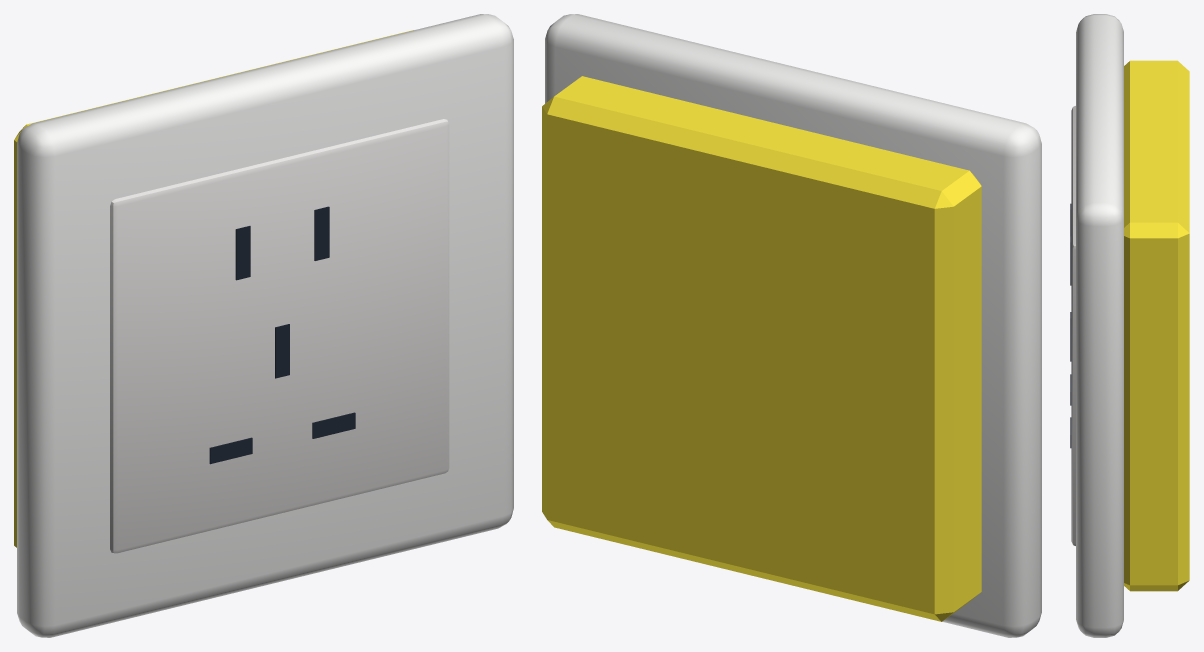
Rendered from wall-outlet.glb.
The picture shows the model from 3 angles, left to right: view 1: azimuth 30°, elevation 25°; view 2: azimuth 150°, elevation 25°; view 3: azimuth 270°, elevation 25°; orthographic projection. The views are drawn at different scales.
Parts seen in each view (by area): view 1: wall-outlet; view 2: wall-outlet; view 3: wall-outlet.
Boxes of the visible parts, box(x1,y1,x2,y2) form: wall-outlet: box(14, 14, 513, 637); wall-outlet: box(542, 14, 1041, 637); wall-outlet: box(1070, 14, 1189, 637).
Bounding box in the file's own units: 0.08 × 0.08 × 0.02.
